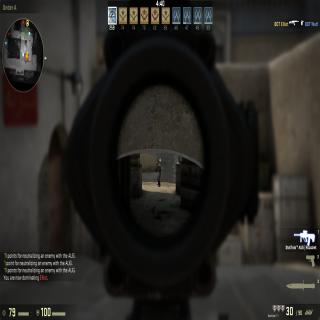T-Body: (156, 162, 162, 187)
T-Head: (156, 161, 158, 166)
